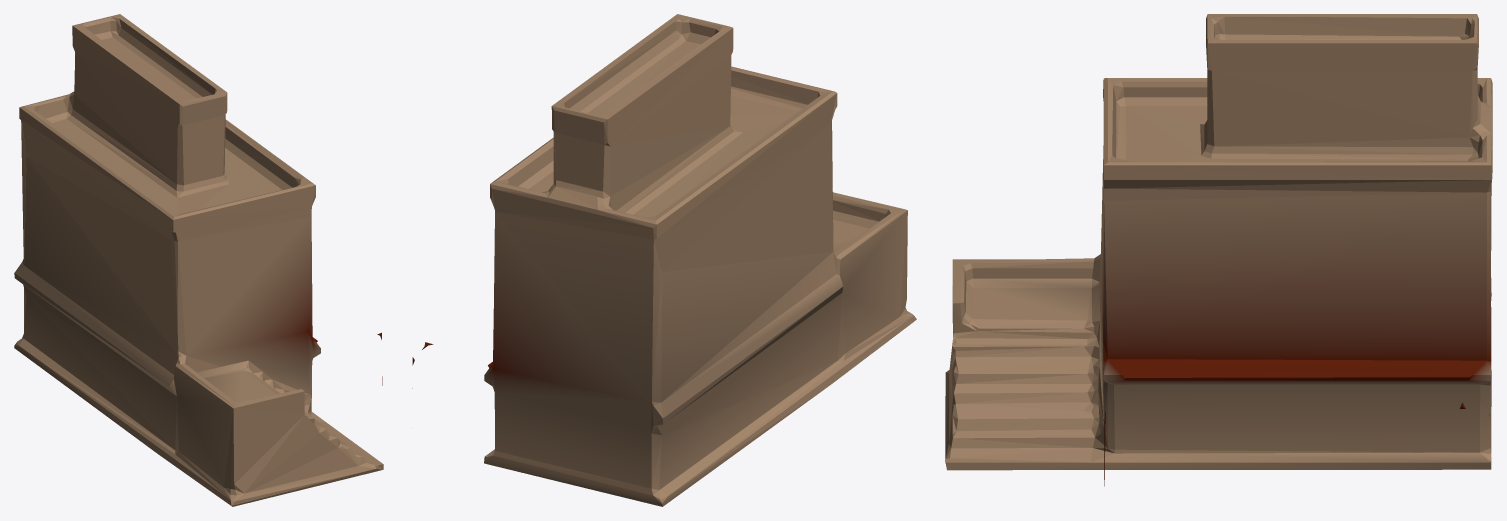
The model's file is Desert Houses(1).glb.
3 renders of one model, left to right at view 1: azimuth 30°, elevation 25°; view 2: azimuth 150°, elevation 25°; view 3: azimuth 270°, elevation 25°, orthographic. The views are drawn at different scales.
Parts seen in each view (by area): view 1: Root; view 2: Root; view 3: Root.
Part boxes in pixels (x1,y1,x2,y2): Root: (14,14,383,506); Root: (412,14,916,506); Root: (945,14,1492,486).
Size of the model in its own units: 5.77 by 8.11 by 10.14.
